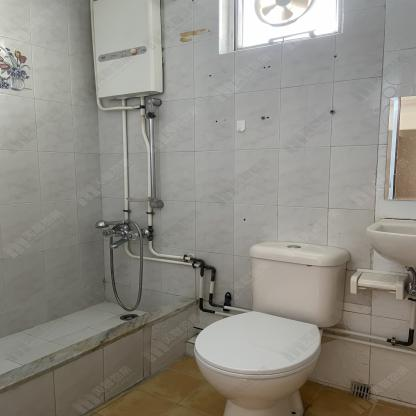Exhaust Fan: (251, 0, 314, 30)
Toilet: (191, 239, 352, 416)
Toilet Sink: (363, 217, 416, 266)
Water Heater: (90, 0, 166, 103)
